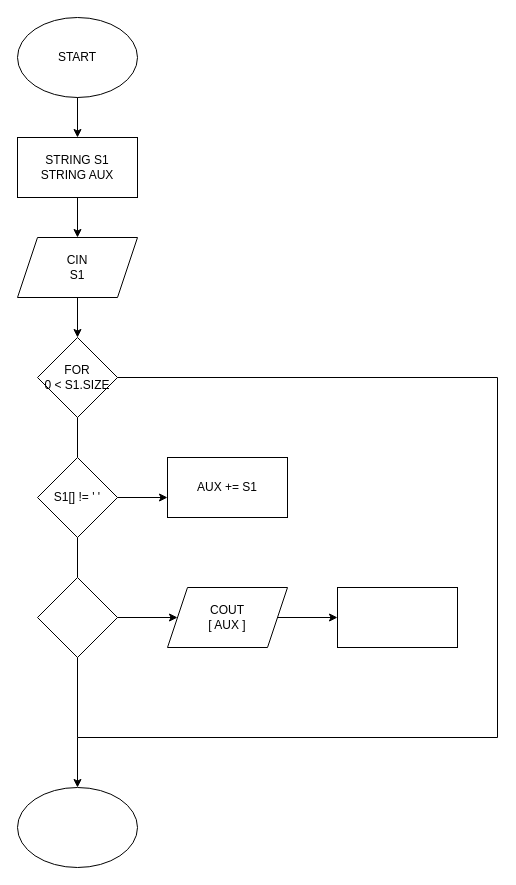
This 516x885 diagram has some shape labels left out. Here are the shapes that lost their labels. From the top down, the centre of each, then its label:
At (x=77, y=617): "S1 == ' '".
At (x=397, y=617): "CLEAR AUX".
At (x=77, y=827): "END".
